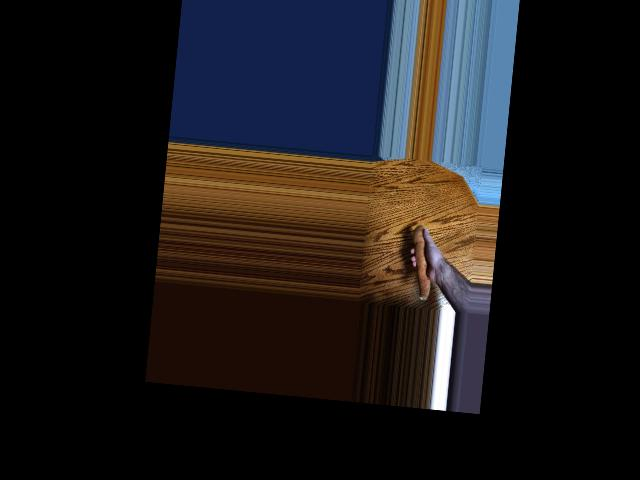sweet_potato: (405, 225, 439, 304)
